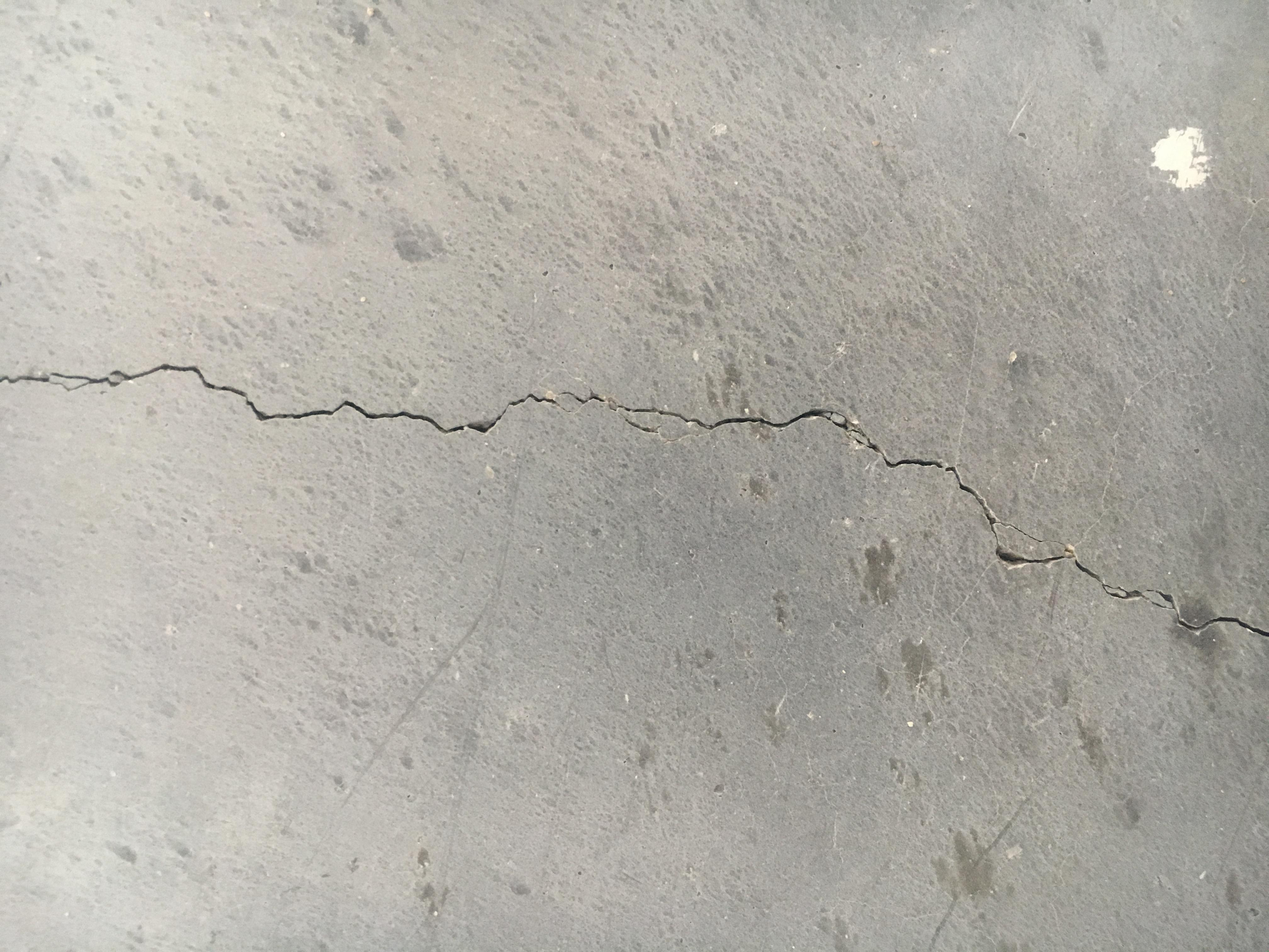Horizontal Settlement Crack: (2, 357, 1266, 644)
